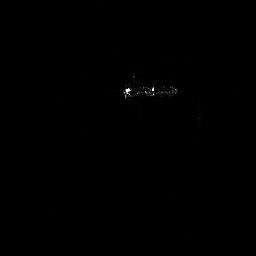ship: (118, 80, 180, 102)
